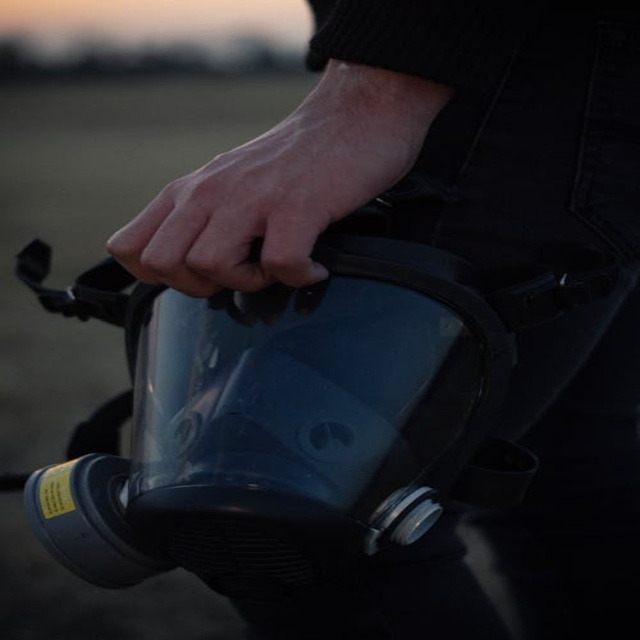Sin_guantes: (103, 122, 363, 302)
